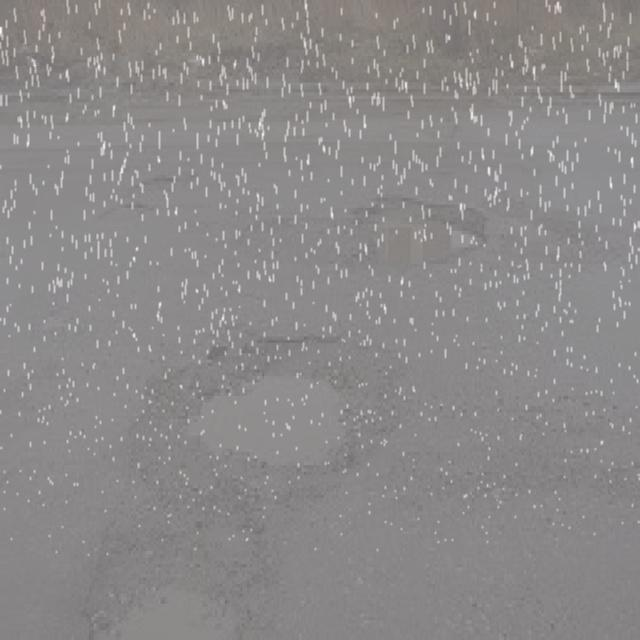Pothole: (151, 322, 387, 495), (321, 198, 508, 302)
